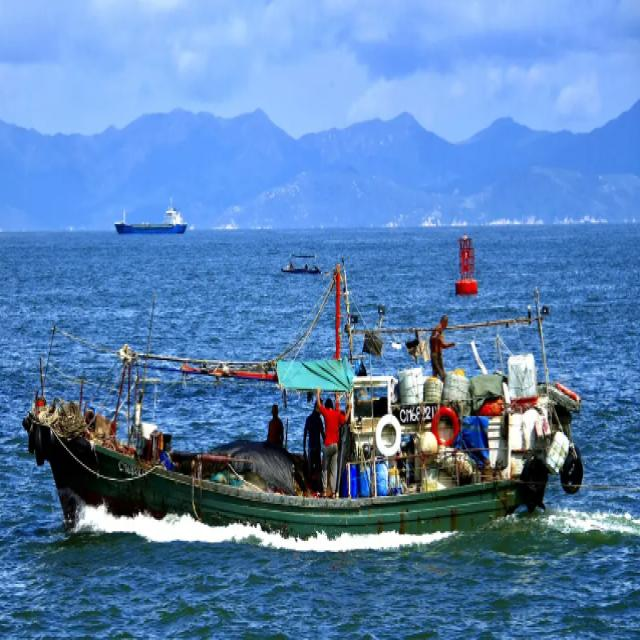cargoship: (110, 199, 191, 235)
fishing boat: (18, 282, 582, 540), (280, 238, 334, 276)
